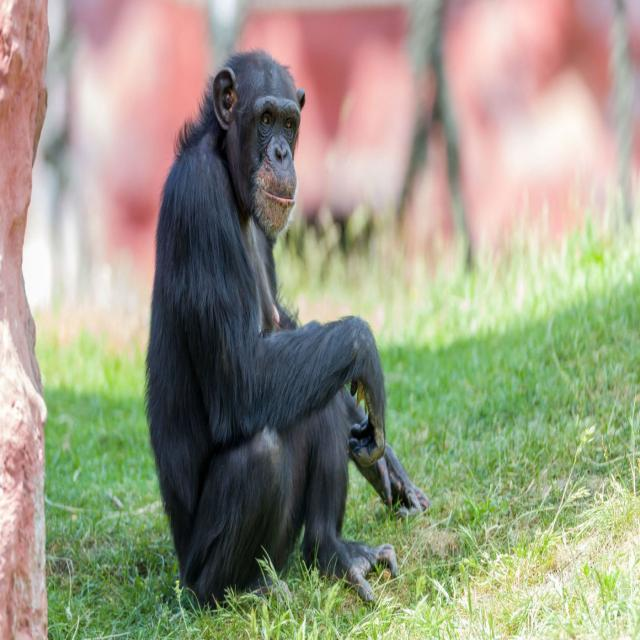Chimpanzee: (142, 49, 411, 593)
